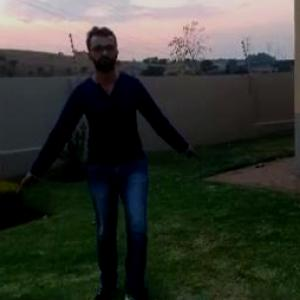land: (33, 31, 196, 282)
